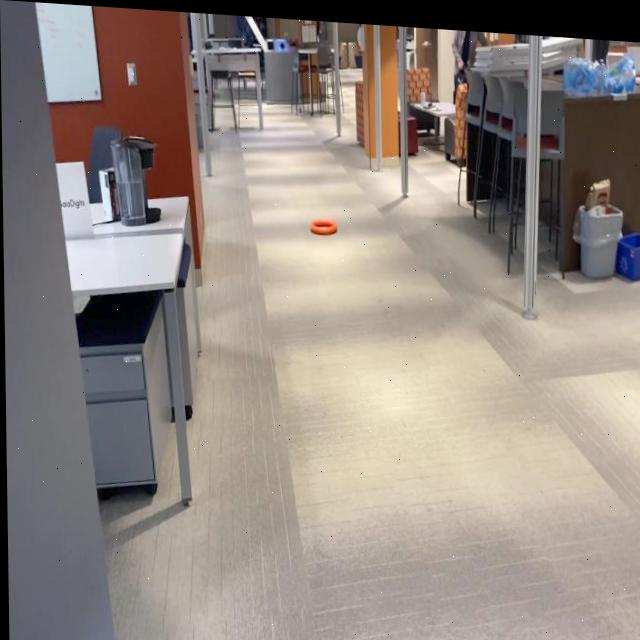note: (310, 212, 335, 230)
